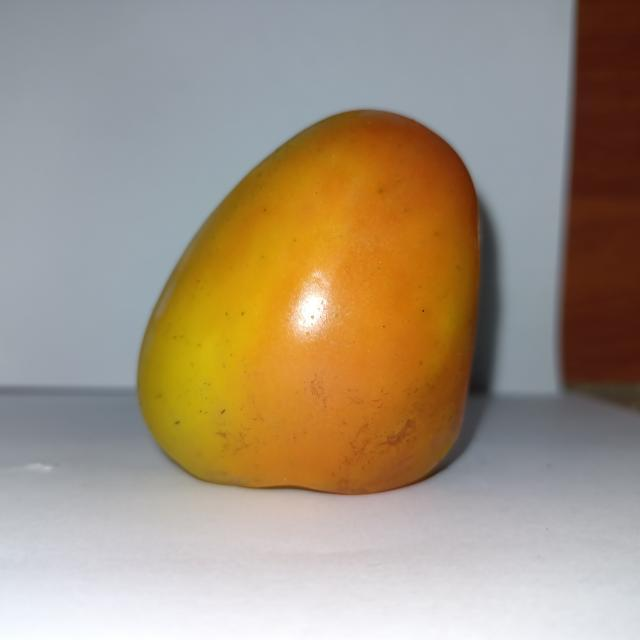Red: (135, 106, 482, 495)
